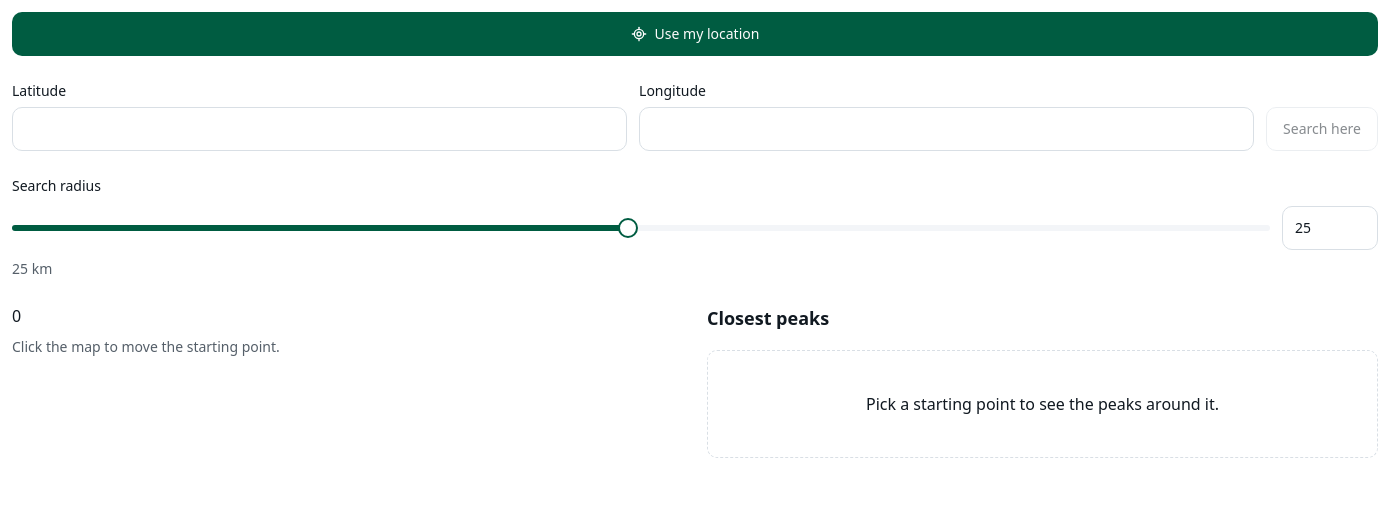
Test case: NearbyPeaksView › nearbyPeaksView_wideningTheRadius_keepsTheNumericInputInSync
Type "42.6" into the field labelled "Latitude". click: [320, 129]
box: [12,107,627,151]
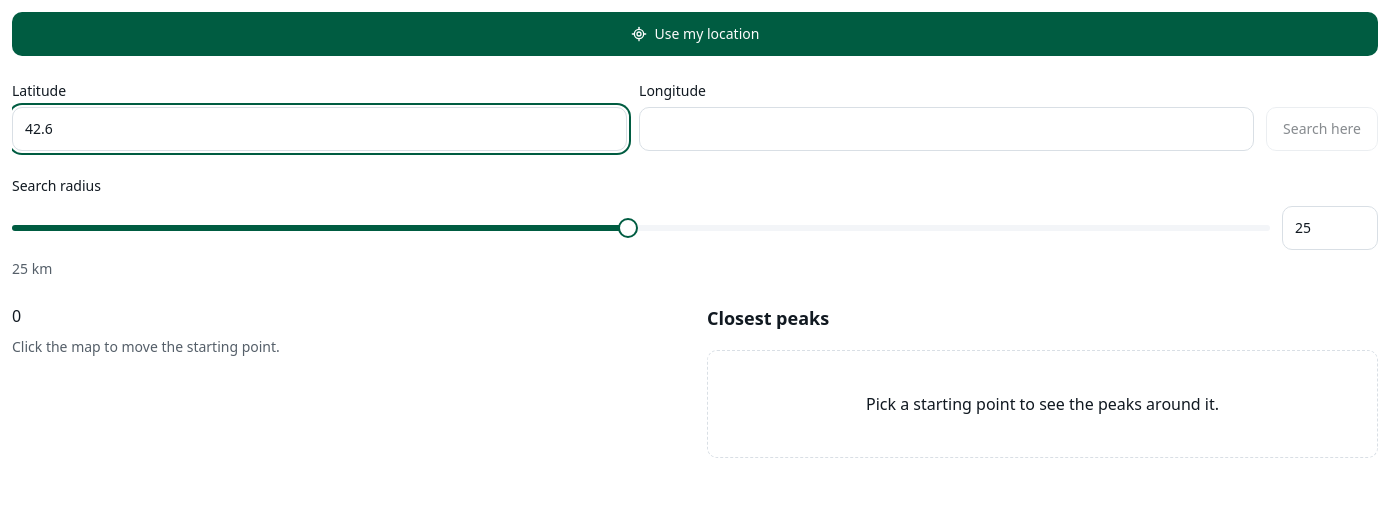
Type "0.6" into the field labelled "Longitude". click: [946, 129]
box: [639,107,1254,151]
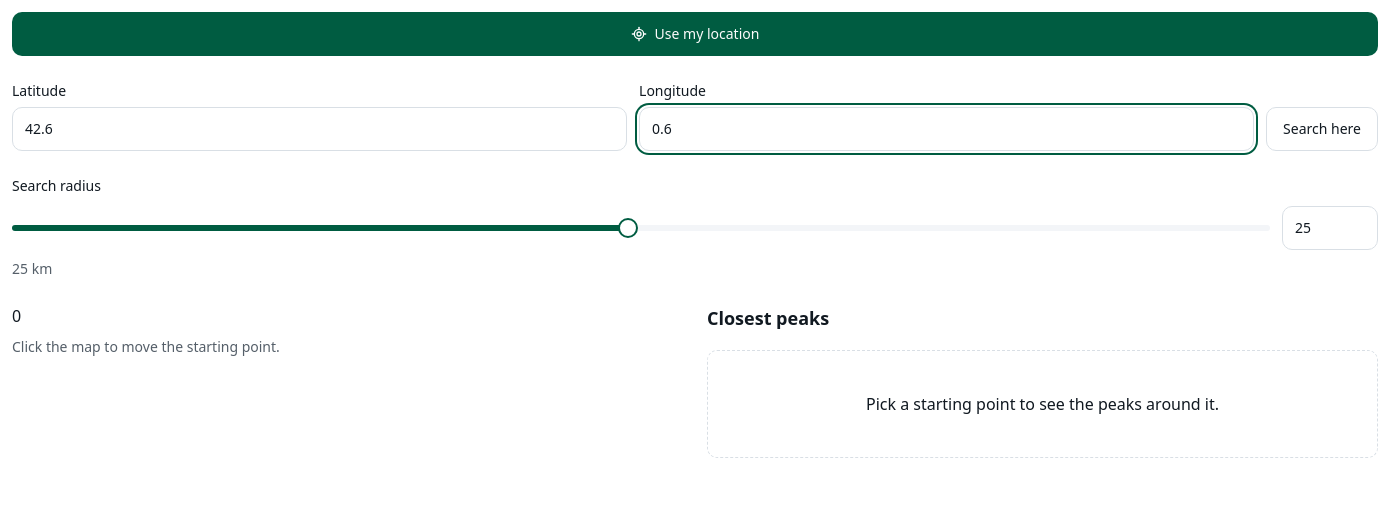
Click the button "Search here". click: [1322, 129]
box: [1266,107,1378,151]
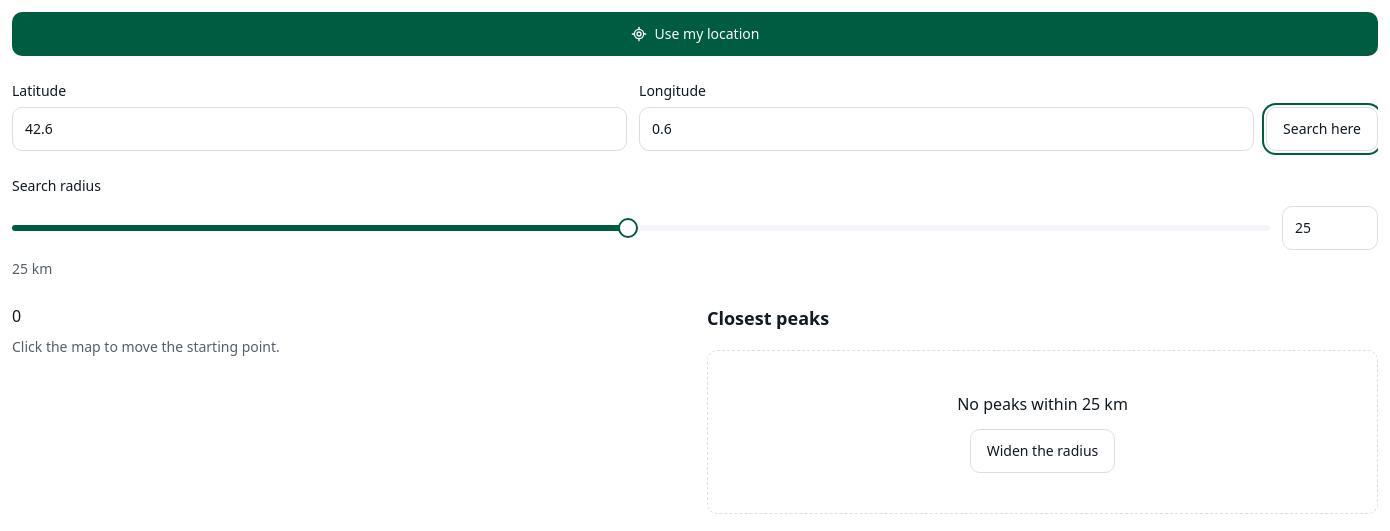
Now the button "Widen the radius" is shown
Click the button "Widen the radius". click: [1042, 450]
box: [970,428,1115,472]
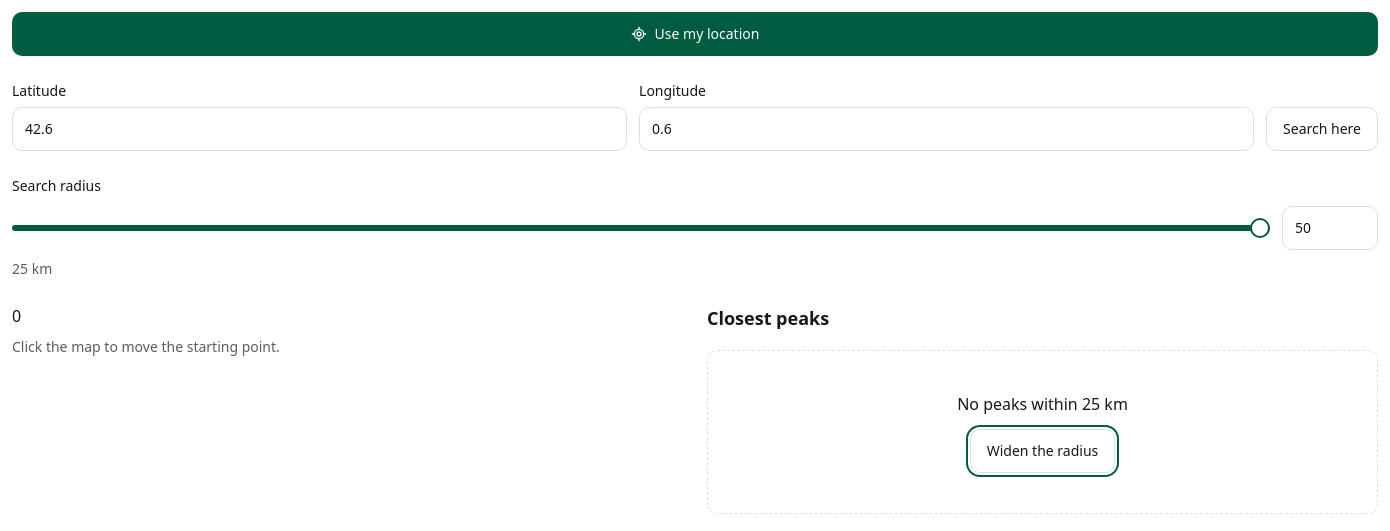
Now the number field named "Radius in kilometres" holds "50", box [1282,206,1378,250]
